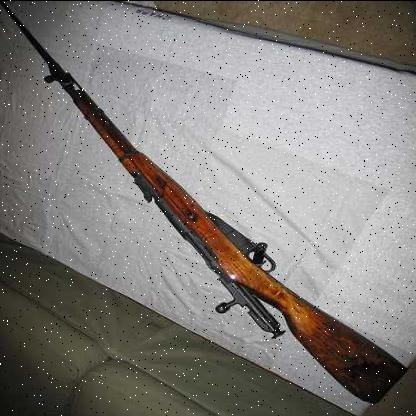rifle: (52, 65, 415, 416)
